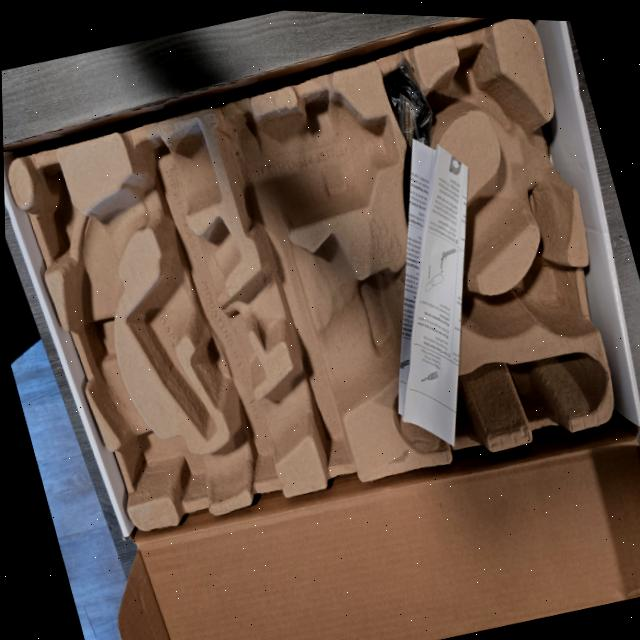1m: (67, 112, 570, 499)
2m: (126, 219, 238, 434)
3m: (214, 92, 398, 237)
4m: (393, 353, 608, 457)
5m: (522, 259, 572, 323)
6m: (453, 45, 518, 132)
7o: (382, 53, 433, 193)
8: (396, 138, 469, 451)
